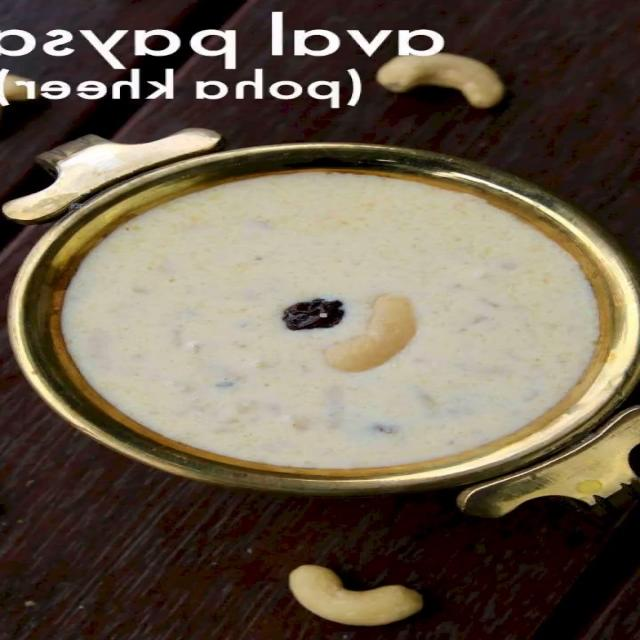Kheer: (43, 158, 615, 492)
